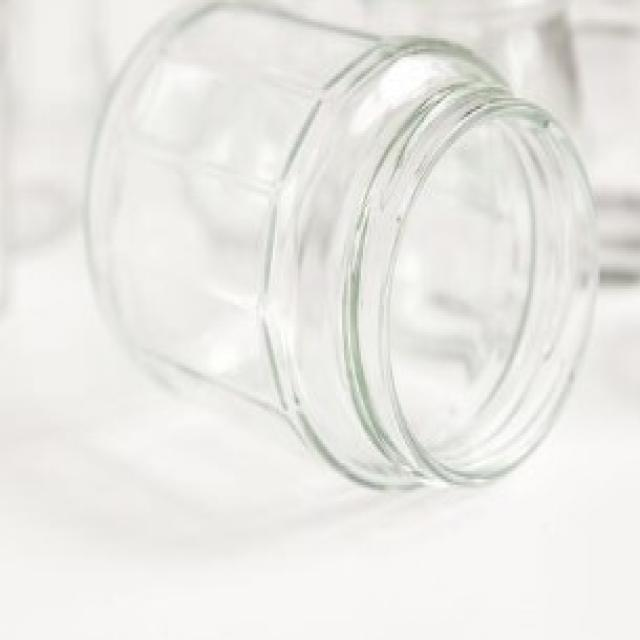electronic: (78, 0, 603, 489)
